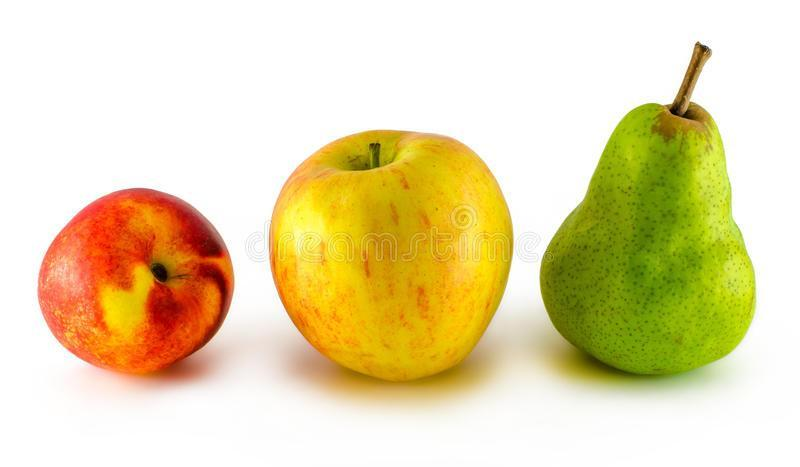apple: (264, 130, 516, 385)
